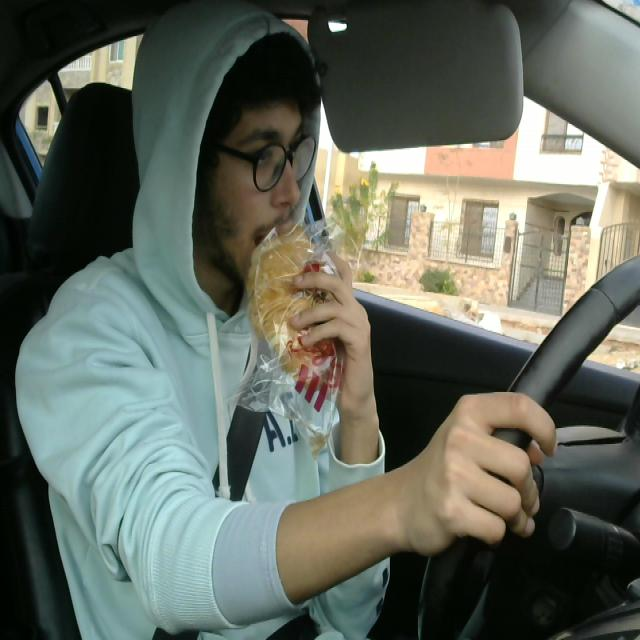eating: (251, 216, 343, 387)
